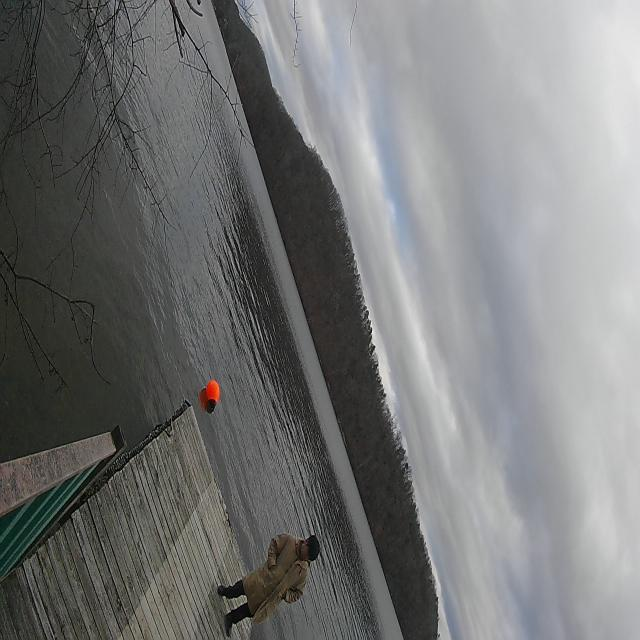Buoy: (206, 379, 220, 413)
